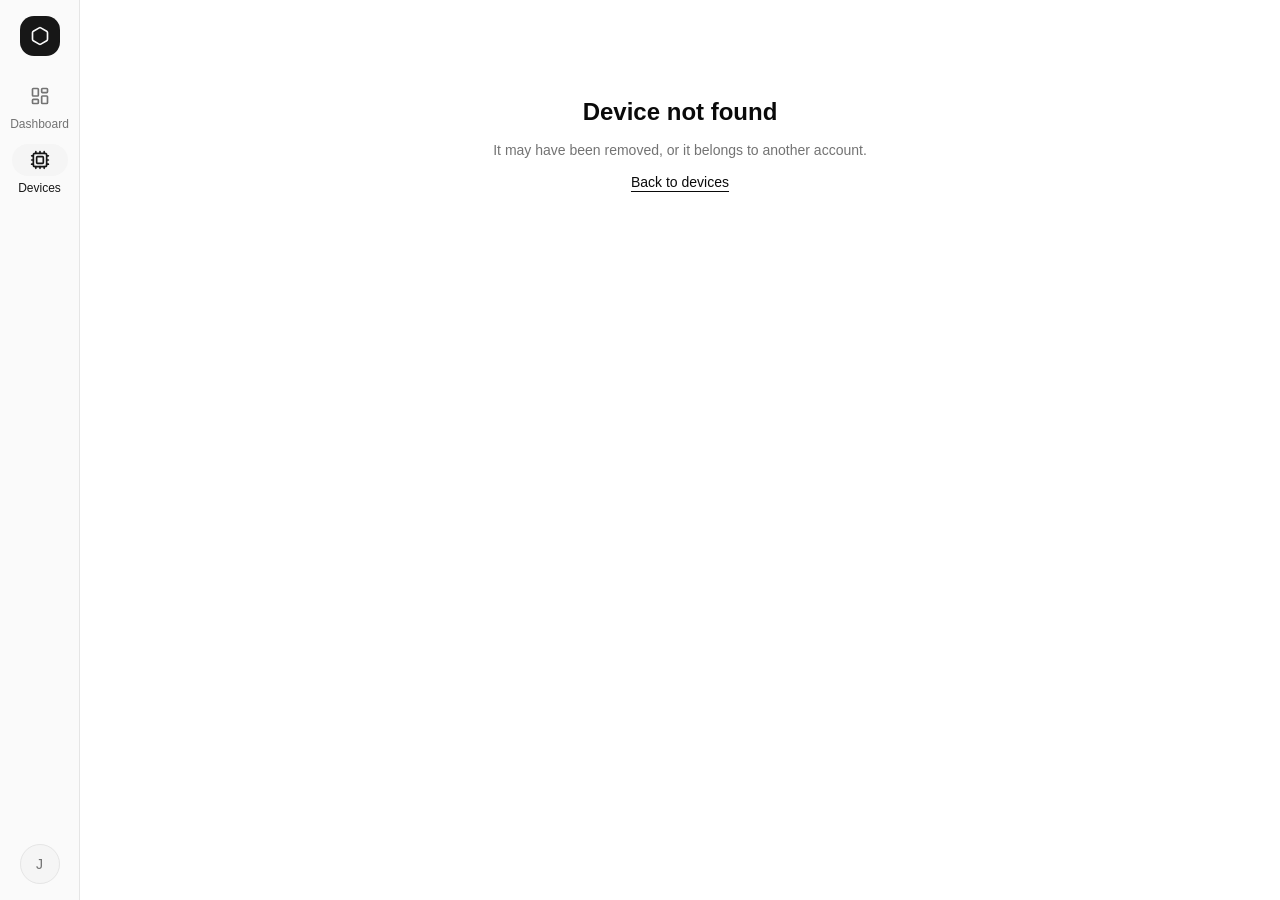
Test: device details › shows not found for an unknown or another user’s device
The image size is (1280, 900).
Check: the heading "Device not found" is shown, box [583,96,777,128]
Click the link "Back to devices" at (680, 182), box [631,172,729,192]
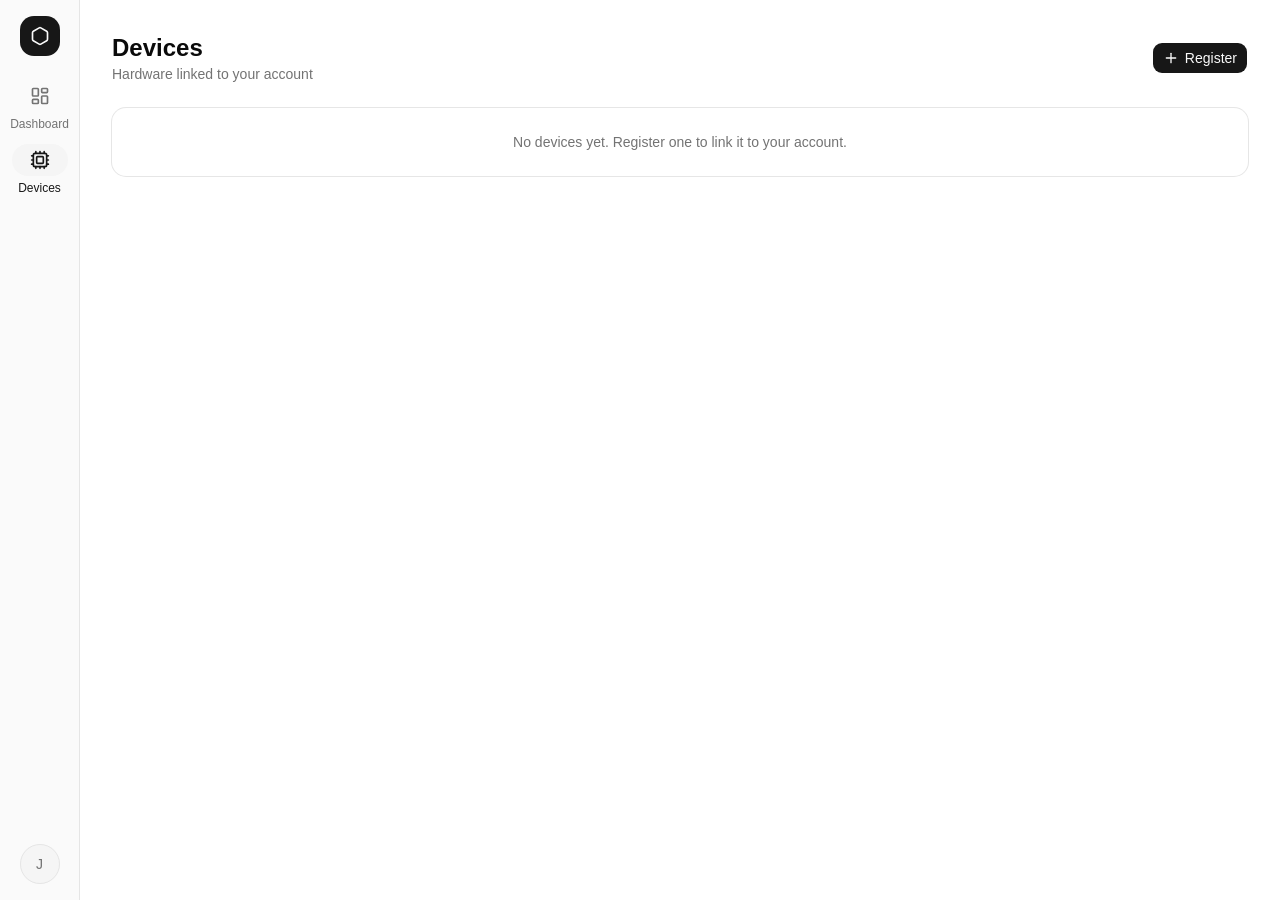
Check: the heading "Devices" is shown, box [112,34,203,61]
